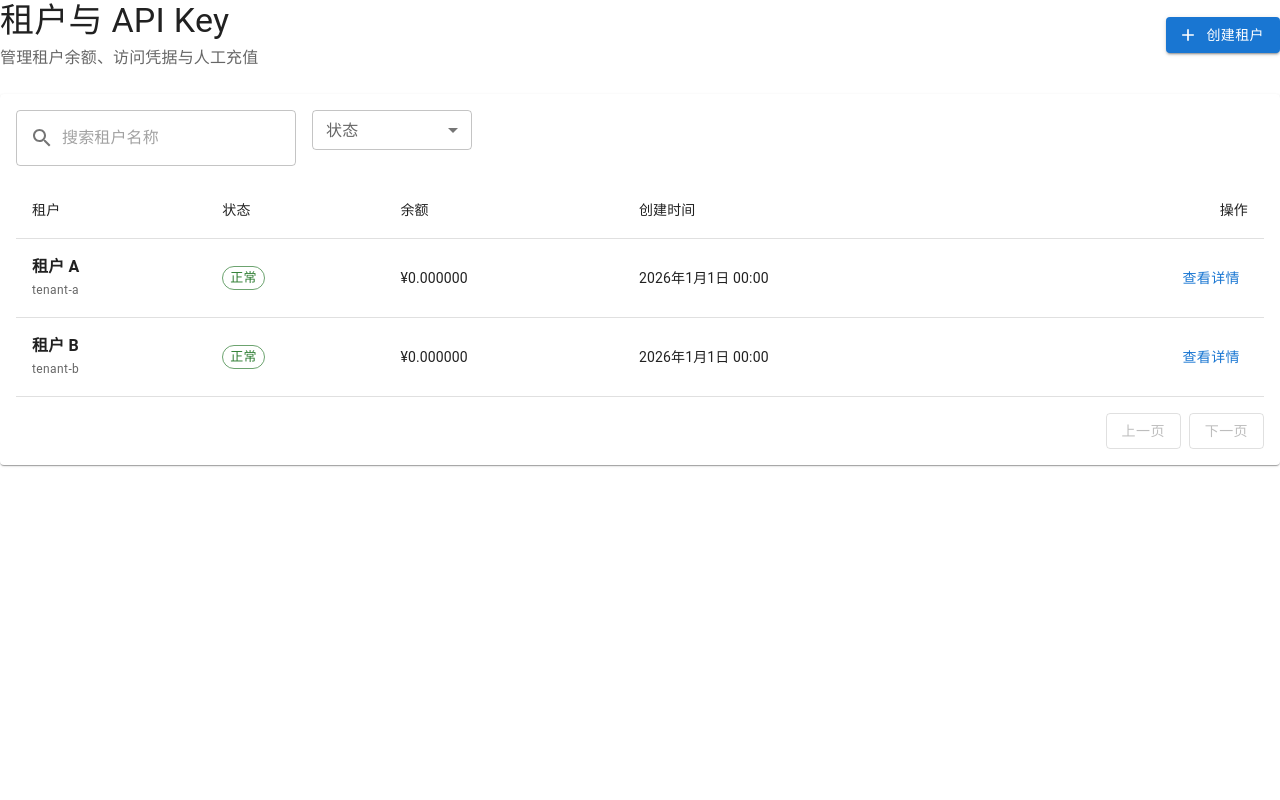
it: 租户创建与一次性 Key 回归 › Key 网络异常用 Alert 反馈并解除 pending，重试时清除旧错误且仍不能重复提交
Click the button "查看详情" in the row of "租户 A": (1211, 278) [1174,260,1248,296]
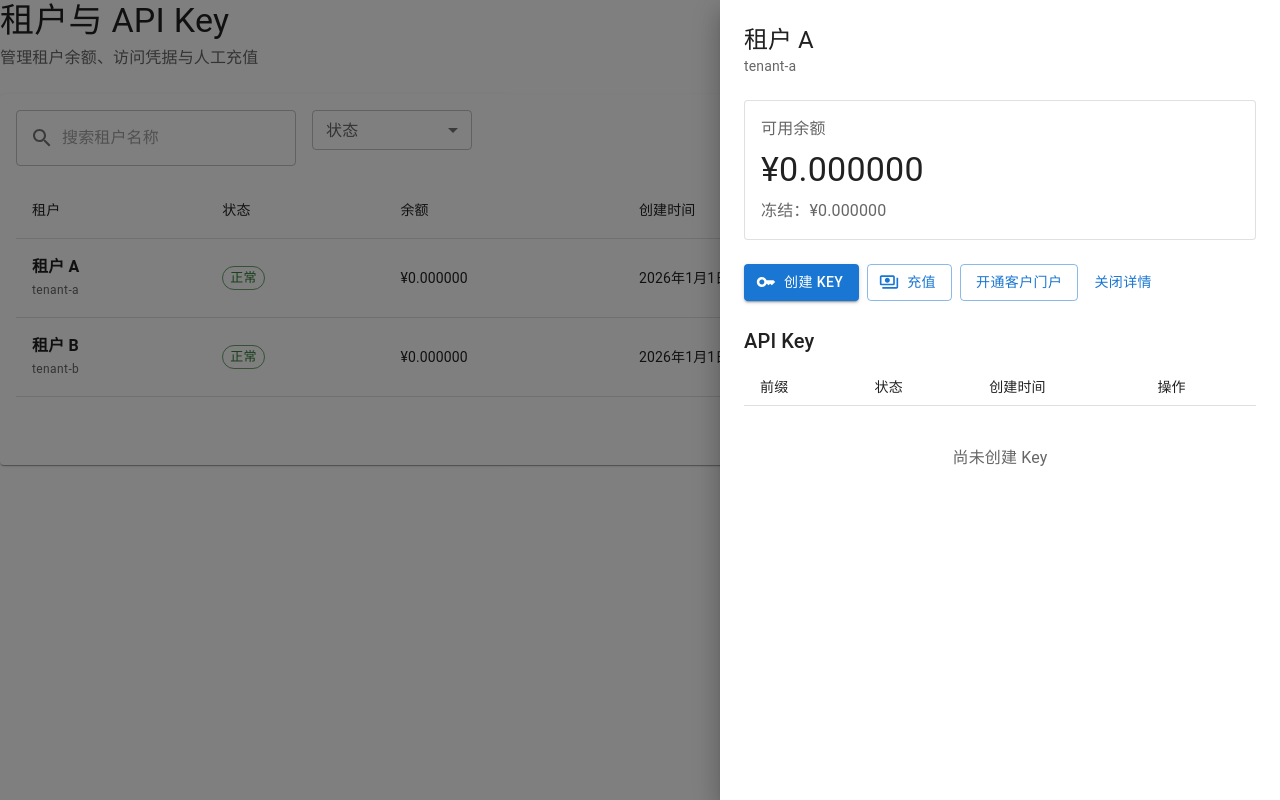
Expected: the button "创建 Key" is shown
Click the button "创建 Key": (802, 282) [744,264,859,300]
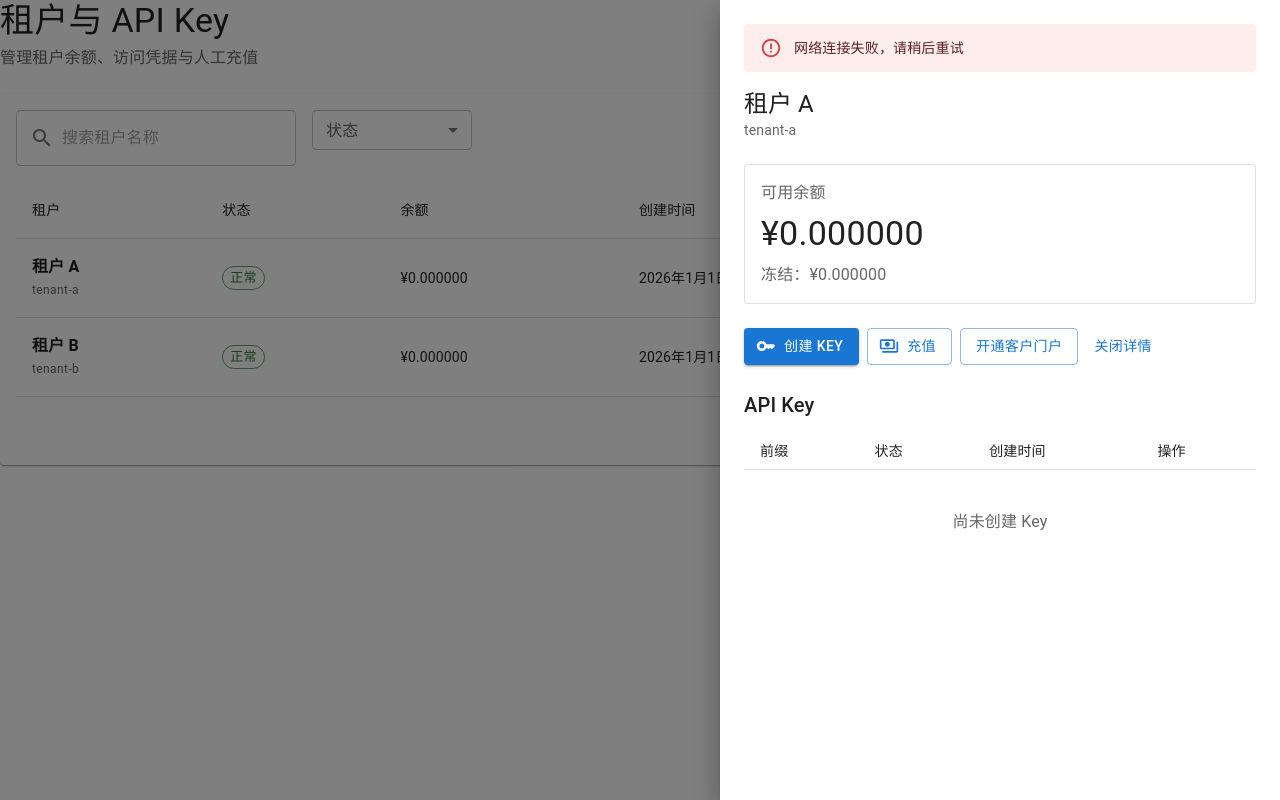
Expected: the button "创建 Key" is enabled
Expected: the button "关闭详情" is enabled, [1086,328,1160,364]
Expected: the message reads "网络连接失败，请稍后重试", [794,40,964,56]
Click the button "创建 Key": (802, 346) [744,328,859,364]
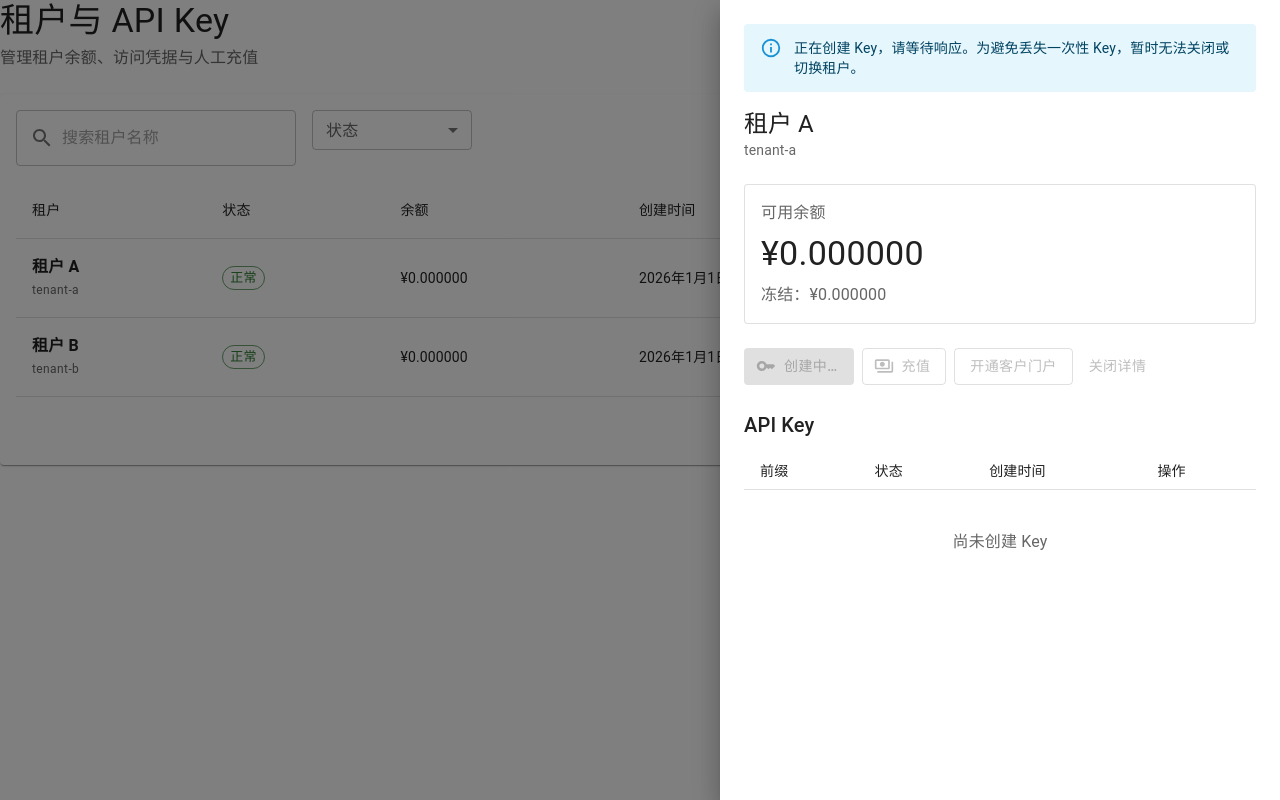
Expected: the text "网络连接失败，请稍后重试" is gone
Click the button "创建中…": (799, 366) [744,348,854,384]
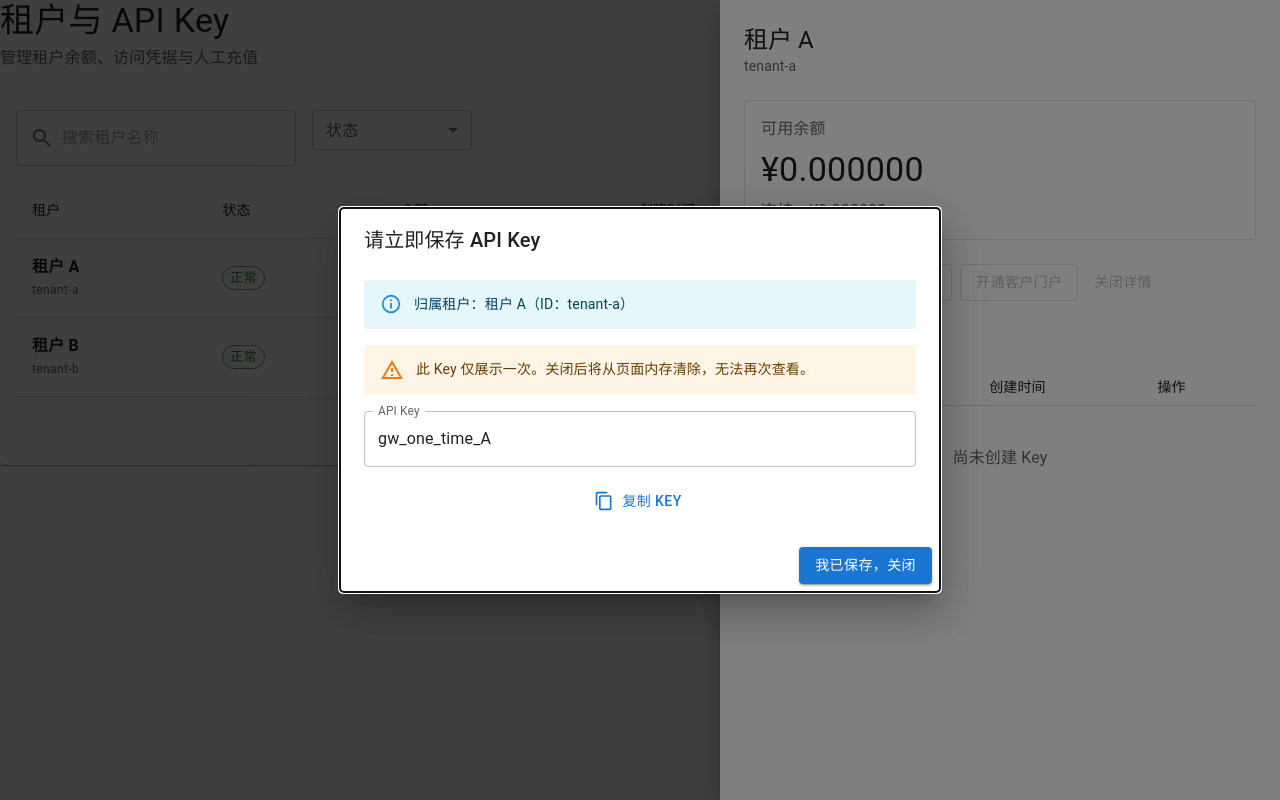
Expected: the field showing "gw_one_time_A" is shown, [364,410,916,466]
